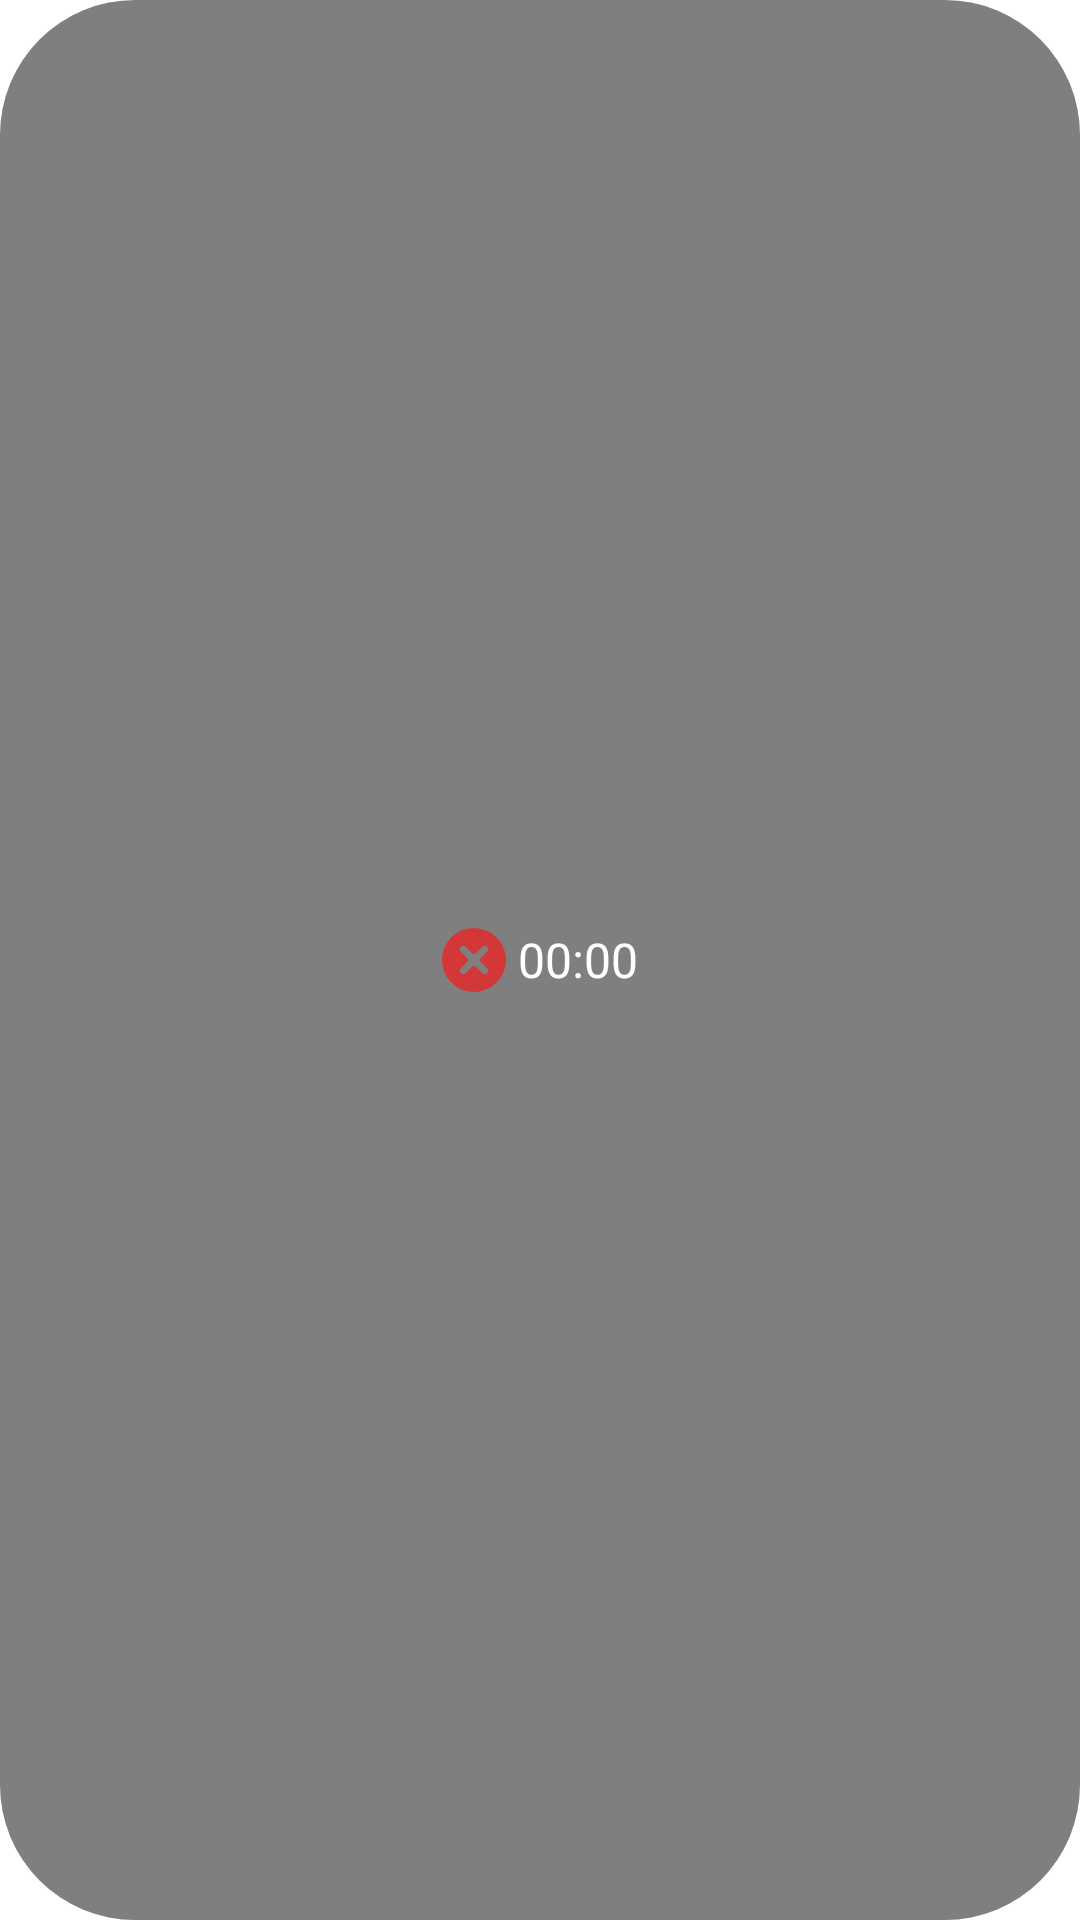

Icons on this 1080px x 1920px Android screen, each with its box as (x1, y1, x2, y2):
delete: (442, 928, 506, 992)
